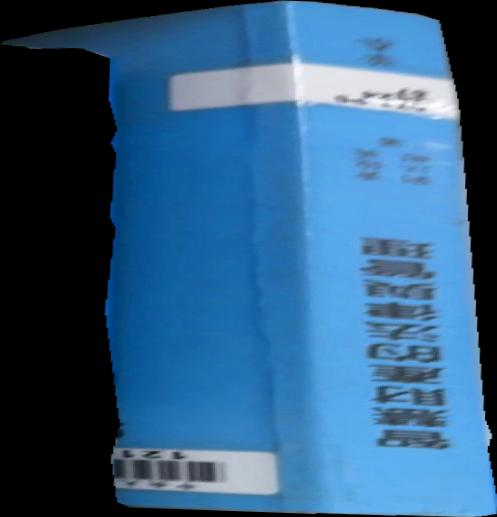reverse: (1, 1, 497, 517)
